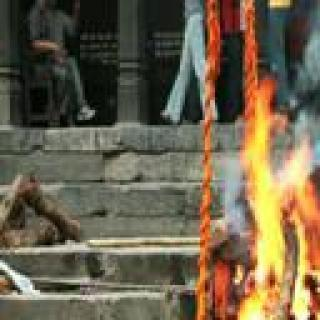fire: (241, 82, 320, 320)
